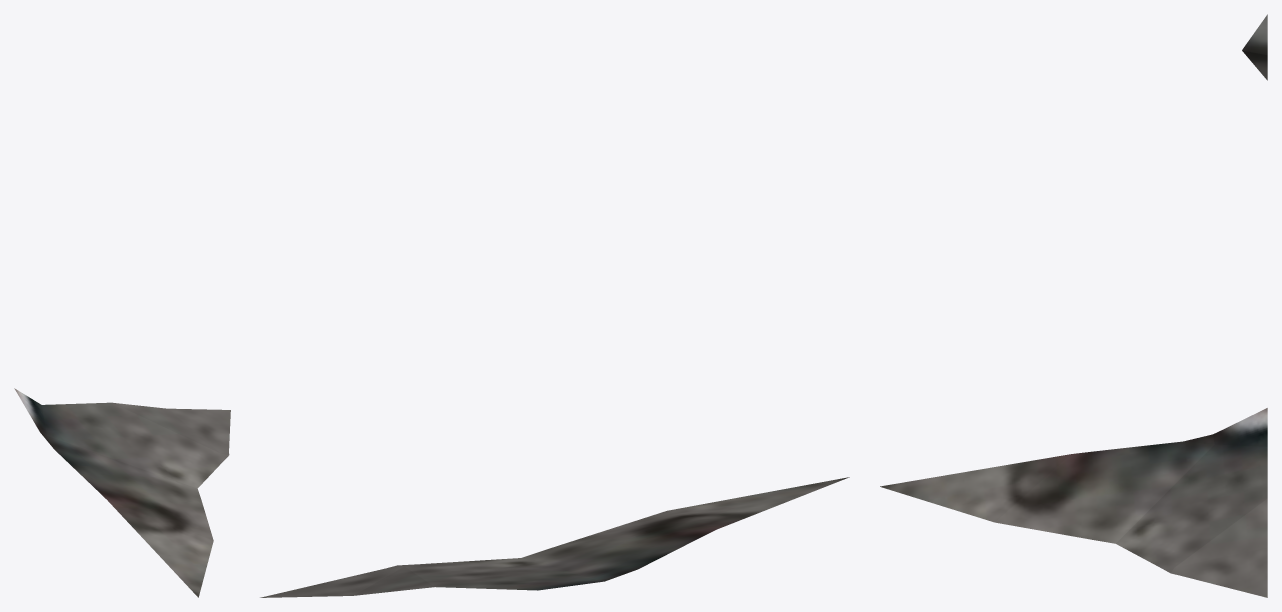
3 renders of one model, left to right at view 1: azimuth 30°, elevation 25°; view 2: azimuth 150°, elevation 25°; view 3: azimuth 270°, elevation 25°, orthographic. The views are drawn at different scales.
Bounding box in the file's own units: 0.3628 × 0.7177 × 0.5347.
1 material, 1 textured.
